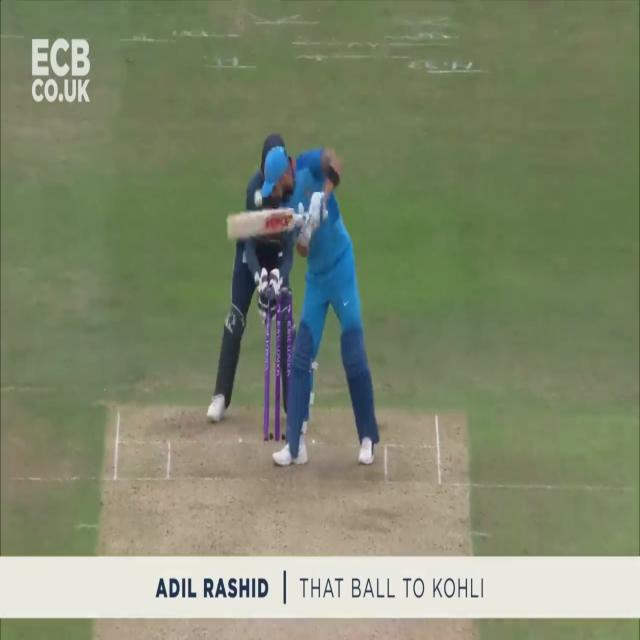ball: (255, 190, 262, 208)
